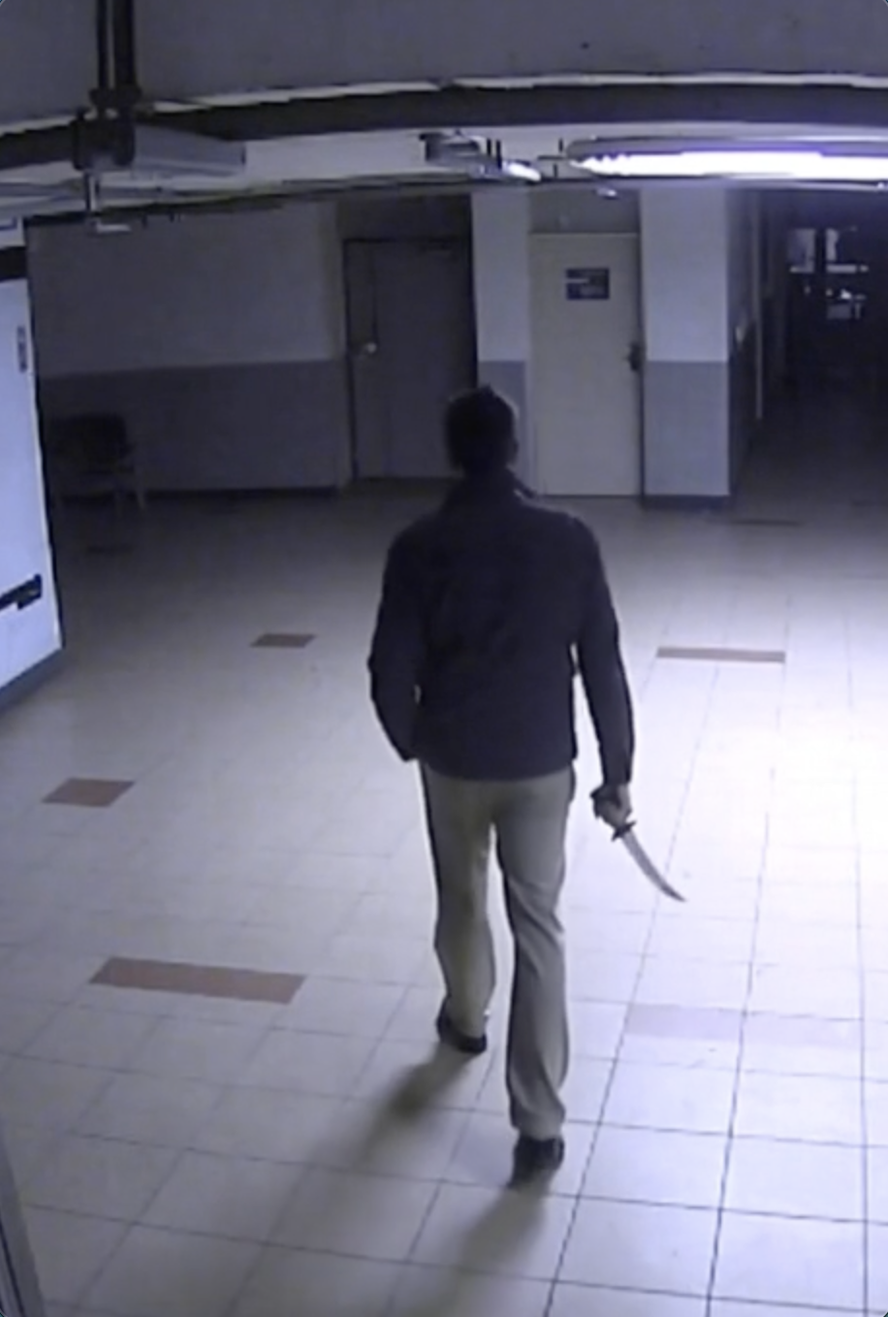Heavy Gun: (360, 388, 634, 1172)
Knife: (587, 784, 689, 898)
